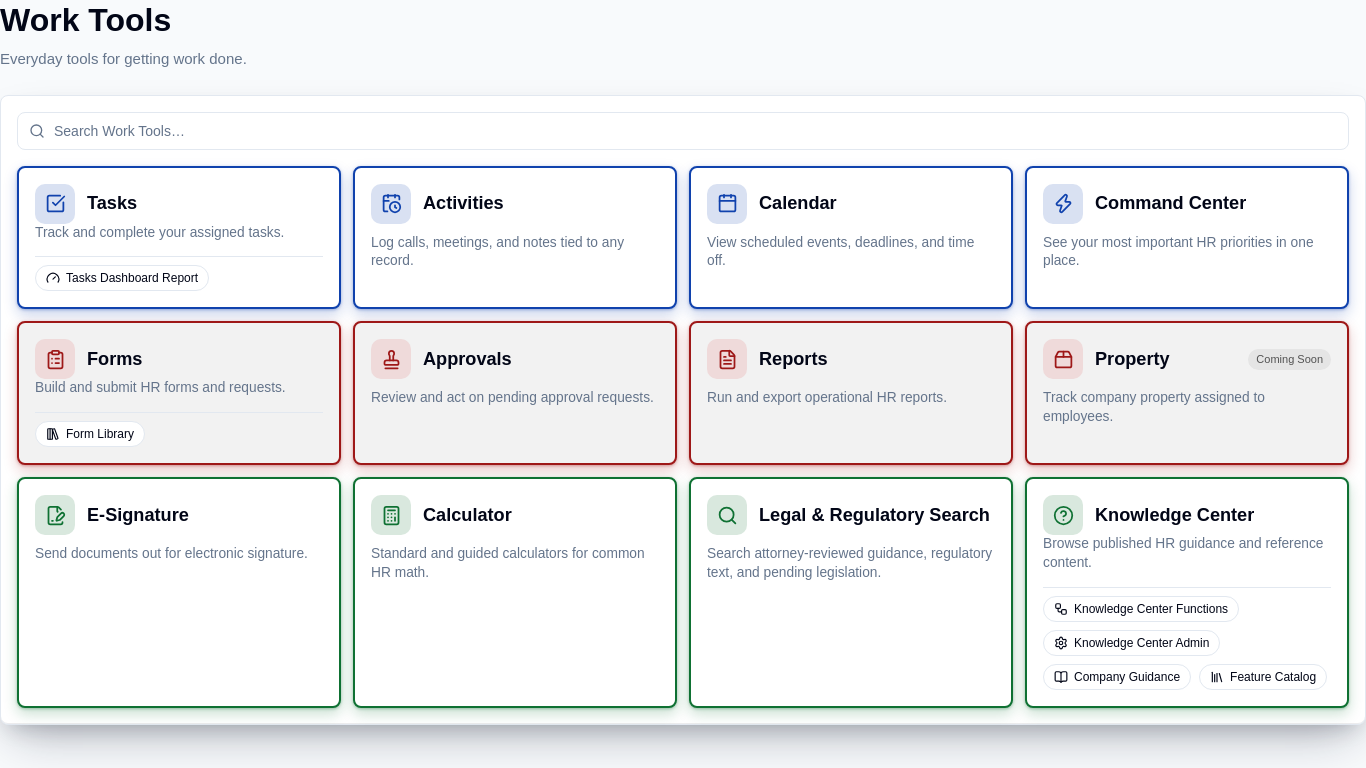
Scenario: MhdCategoryLandingPage › searches within the category only
This screenshot has width=1366, height=768.
In the field labelled "Search Work Tools": (683, 130) [17,112,1349,150], type "calculator"
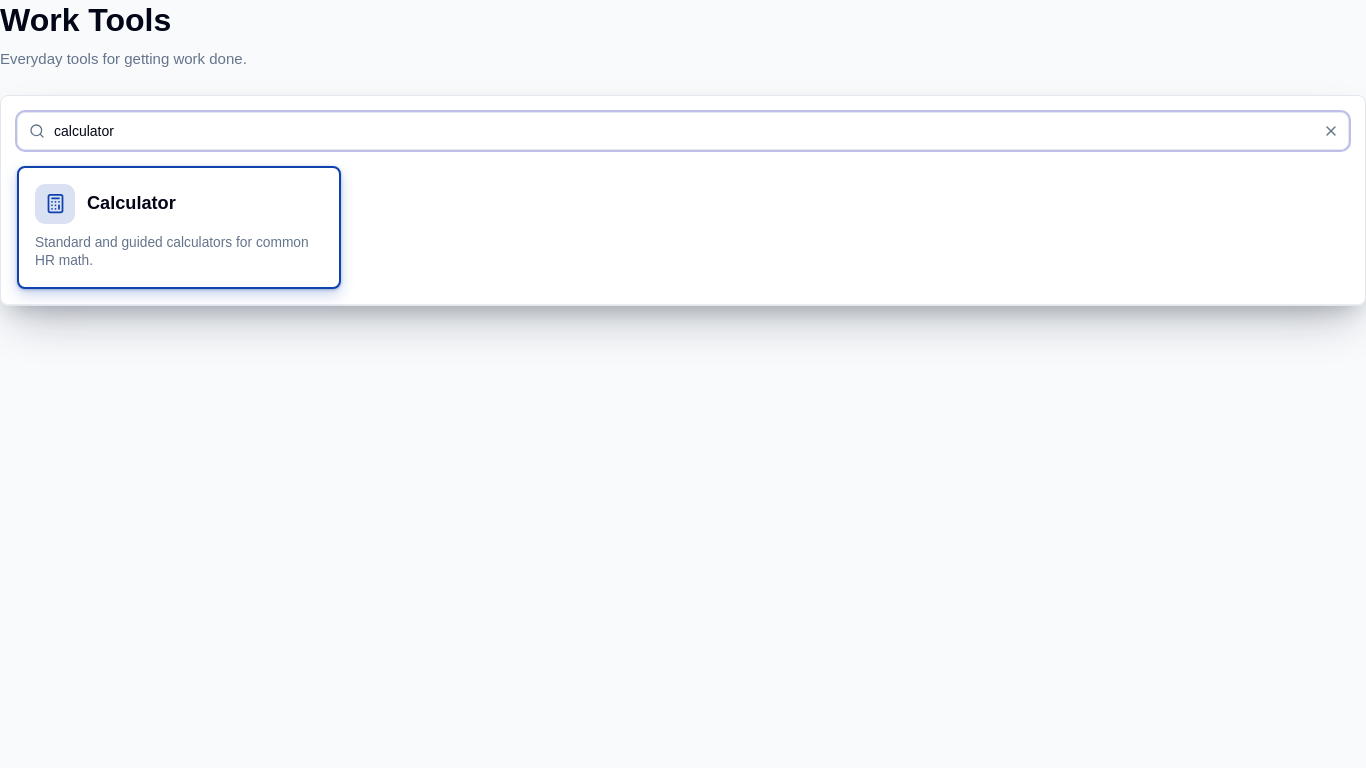
Expected: the link "Calculator" is shown, [17,166,341,289]
Expected: the link "Tasks" is gone
